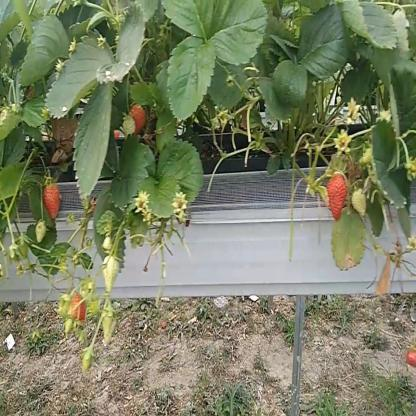ripe: (328, 174, 348, 219), (43, 186, 61, 221), (68, 291, 86, 317), (131, 106, 149, 132), (404, 340, 416, 370)
unripe: (101, 257, 119, 290), (101, 311, 117, 345), (78, 345, 96, 373), (350, 191, 368, 218), (122, 116, 135, 140), (34, 221, 46, 246), (63, 320, 74, 335), (102, 238, 114, 250)
